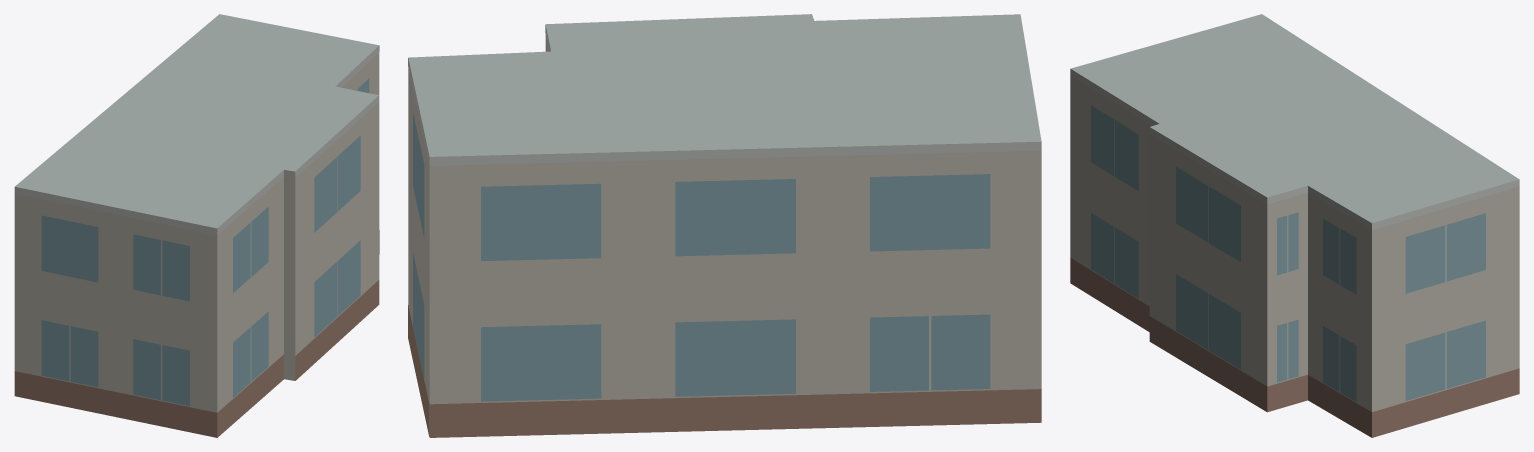
Rendered from survey-upis-32496959.glb.
3 views of the same model, side by side, from view 1: azimuth 30°, elevation 25°; view 2: azimuth 150°, elevation 25°; view 3: azimuth 270°, elevation 25° (orthographic). The views are drawn at different scales.
Parts seen in each view (by area): view 1: survey-upis-32496959.tmp; view 2: survey-upis-32496959.tmp; view 3: survey-upis-32496959.tmp.
Part boxes in pixels (left/top/right/bottom): survey-upis-32496959.tmp: left=14, top=14, right=379, bottom=437; survey-upis-32496959.tmp: left=408, top=14, right=1041, bottom=437; survey-upis-32496959.tmp: left=1070, top=14, right=1519, bottom=437.
Size of the model in its own units: 15.9 by 7.6 by 14.42.
